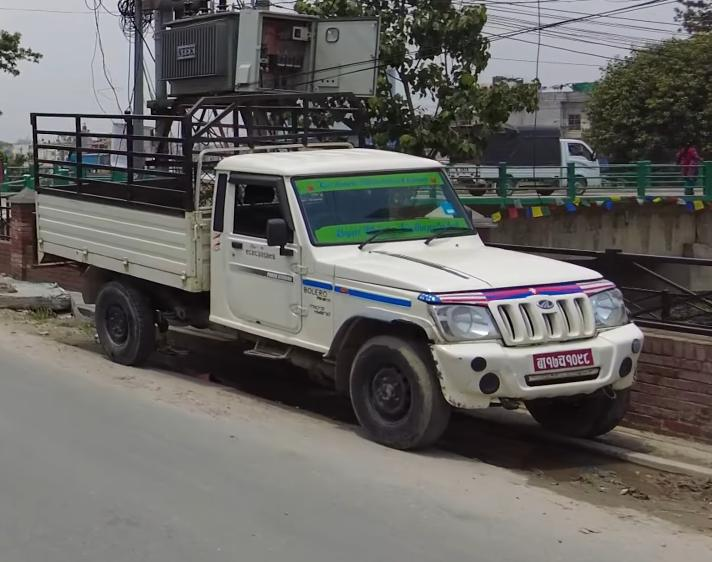mini_truck: (443, 94, 618, 216)
transport_vehicle: (19, 83, 647, 471)
